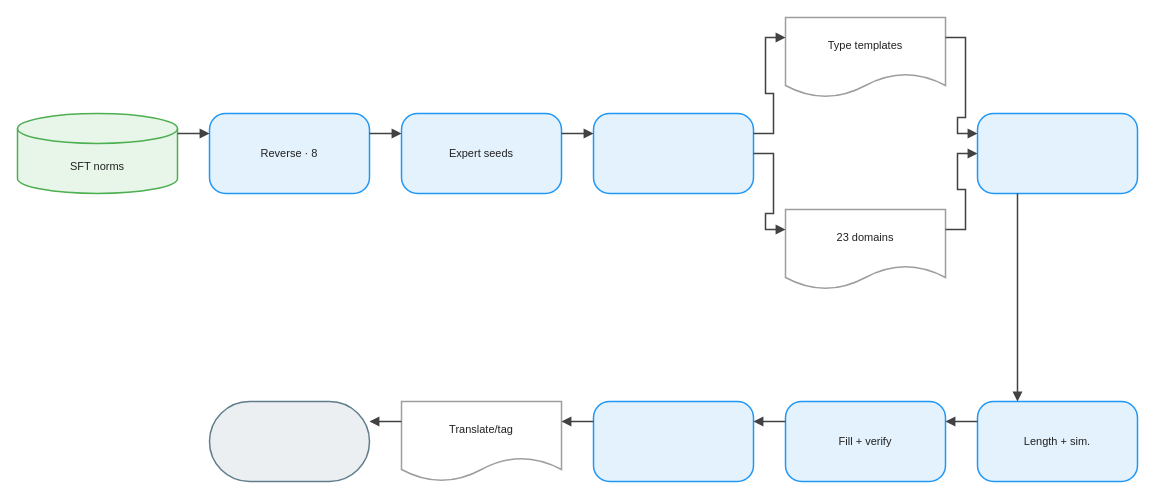
This 1156x500 diagram has some shape labels left out. The shapes that lost their labels are listed below. From the top down, each one's centre as x and y in pixels, then its label:
At point 673,153: "Seed vote gate".
At point 1057,153: "Multi-LLM · 20".
At point 289,441: "1,012 items".
At point 673,441: "Expert review".
